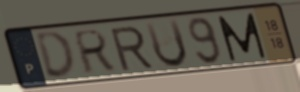9: (186, 15, 225, 67)
D: (33, 29, 77, 82)
M: (215, 11, 269, 64)
R: (107, 24, 156, 73), (72, 27, 117, 77)
U: (142, 17, 190, 70)
